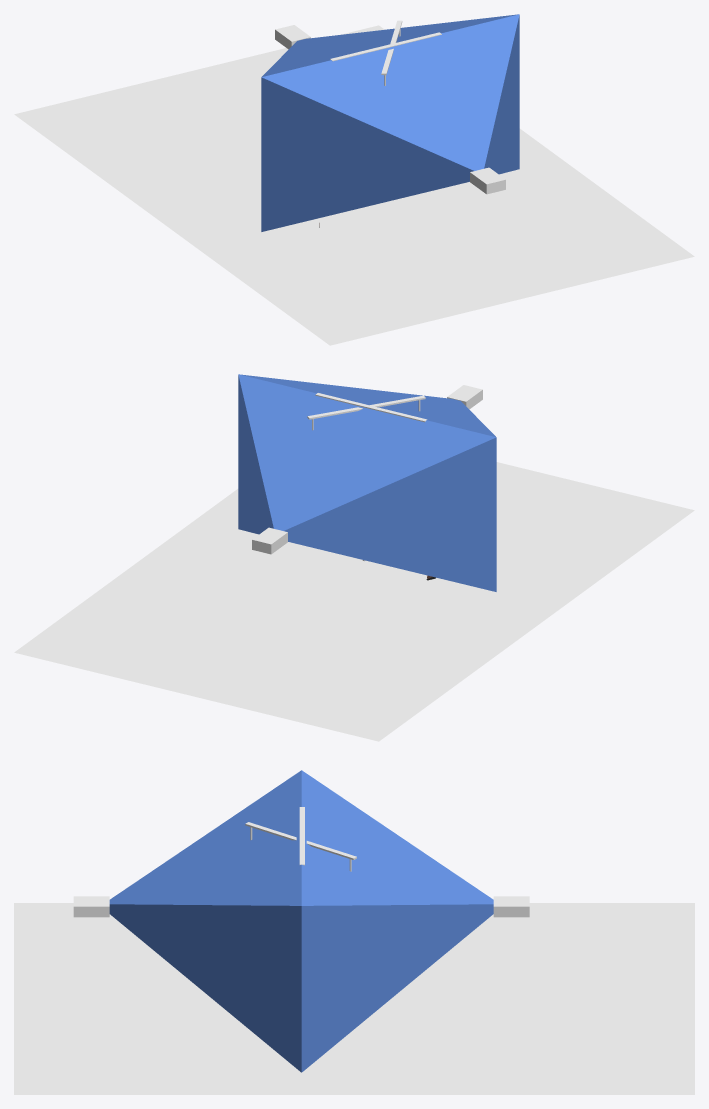
File: SET_17_SistemaSolar.obj
3 views of the same model, one above another, from view 1: azimuth 30°, elevation 25°; view 2: azimuth 150°, elevation 25°; view 3: azimuth 270°, elevation 25° (orthographic). The views are drawn at different scales.
Visible parts, largest first — view 1: Mesh2 Component_9_1 Model, Mesh3 Component_67_1 Component_66_1 Component_65_1 Model, Mesh16 Component_67_2 Component_66_2 Component_65_2 Model, Mesh4 Component_6_1 Component_66_1 Component_65_1 Model, Mesh17 Component_6_2 Component_66_2 Component_65_2 Model; view 2: Mesh2 Component_9_1 Model, Mesh16 Component_67_2 Component_66_2 Component_65_2 Model, Mesh3 Component_67_1 Component_66_1 Component_65_1 Model, Mesh17 Component_6_2 Component_66_2 Component_65_2 Model; view 3: Mesh2 Component_9_1 Model, Mesh3 Component_67_1 Component_66_1 Component_65_1 Model, Mesh16 Component_67_2 Component_66_2 Component_65_2 Model, Mesh4 Component_6_1 Component_66_1 Component_65_1 Model, Mesh17 Component_6_2 Component_66_2 Component_65_2 Model, Mesh7 Component_105_1 Component_106_1 Component_107_1 Component_.
Part boxes in pixels (x1=…): Mesh2 Component_9_1 Model: x1=14, y1=25, x2=694, y2=345; Mesh3 Component_67_1 Component_66_1 Component_65_1 Model: x1=261, y1=14, x2=519, y2=231; Mesh16 Component_67_2 Component_66_2 Component_65_2 Model: x1=262, y1=14, x2=518, y2=76; Mesh4 Component_6_1 Component_66_1 Component_65_1 Model: x1=470, y1=167, x2=505, y2=194; Mesh17 Component_6_2 Component_66_2 Component_65_2 Model: x1=275, y1=25, x2=310, y2=49; Mesh2 Component_9_1 Model: x1=14, y1=462, x2=694, y2=741; Mesh16 Component_67_2 Component_66_2 Component_65_2 Model: x1=238, y1=374, x2=496, y2=591; Mesh3 Component_67_1 Component_66_1 Component_65_1 Model: x1=239, y1=374, x2=495, y2=436; Mesh17 Component_6_2 Component_66_2 Component_65_2 Model: x1=252, y1=527, x2=287, y2=554; Mesh2 Component_9_1 Model: x1=14, y1=903, x2=694, y2=1094; Mesh3 Component_67_1 Component_66_1 Component_65_1 Model: x1=109, y1=770, x2=301, y2=1072; Mesh16 Component_67_2 Component_66_2 Component_65_2 Model: x1=301, y1=770, x2=493, y2=1072; Mesh4 Component_6_1 Component_66_1 Component_65_1 Model: x1=73, y1=896, x2=109, y2=917; Mesh17 Component_6_2 Component_66_2 Component_65_2 Model: x1=493, y1=896, x2=529, y2=917; Mesh7 Component_105_1 Component_106_1 Component_107_1 Component_: x1=245, y1=822, x2=356, y2=859.
Size of the model in its own units: 5000 by 2031 by 7500.
